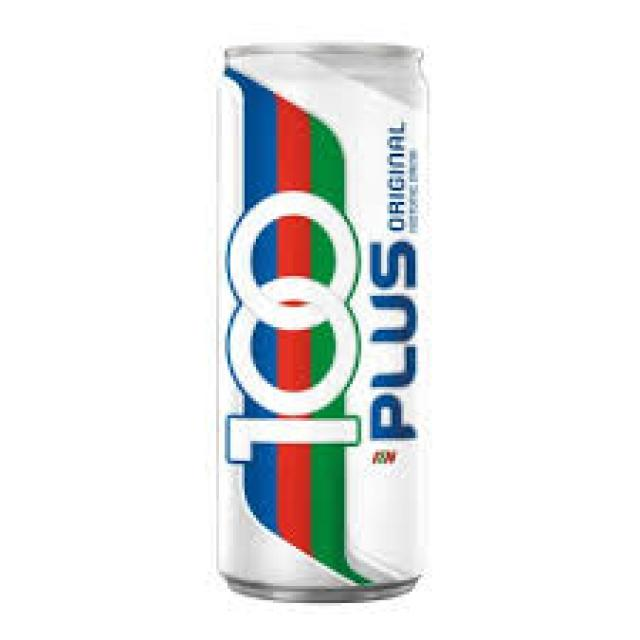Cans: (199, 28, 441, 609)
